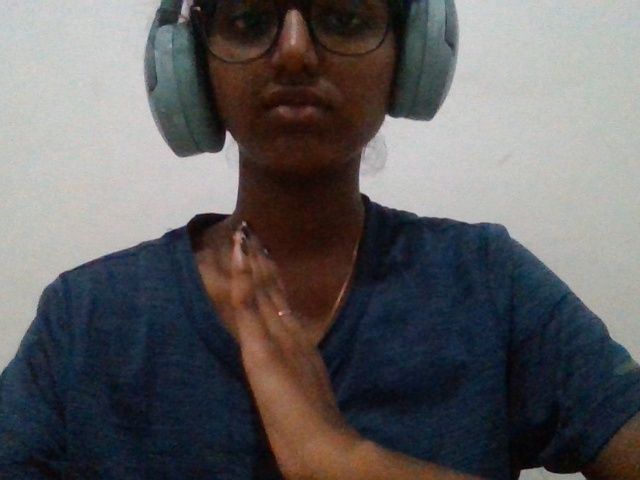Fine: (176, 190, 449, 480)
